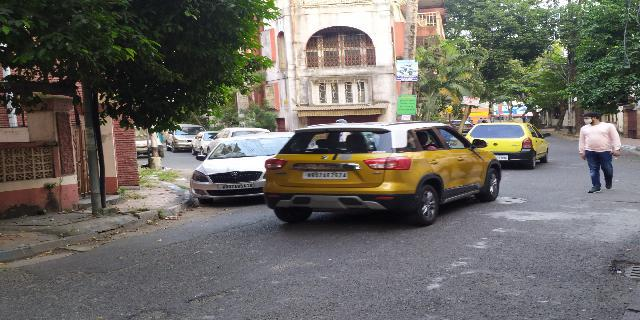Car: (261, 118, 504, 230), (188, 130, 289, 204), (464, 120, 552, 174)
